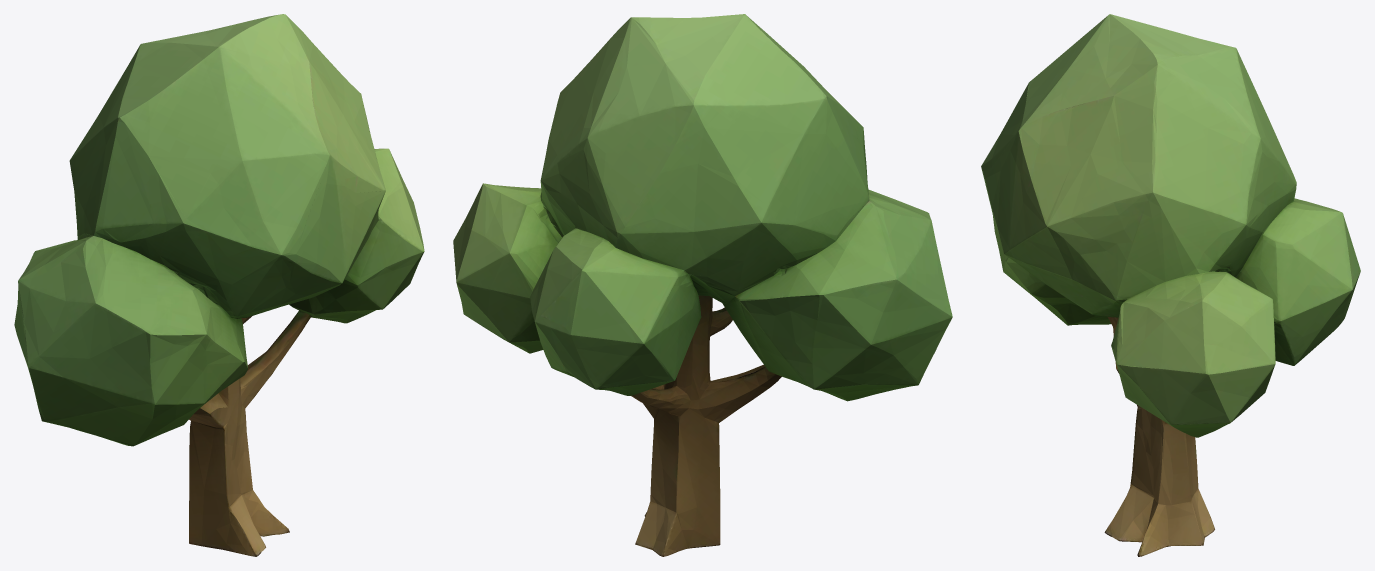
File: oak_tree.glb
3 views of the same model, side by side, from view 1: azimuth 30°, elevation 25°; view 2: azimuth 150°, elevation 25°; view 3: azimuth 270°, elevation 25° (orthographic). The views are drawn at different scales.
Parts seen in each view (by area): view 1: world; view 2: world; view 3: world.
Boxes of the visible parts, <box> form: world: <box>14,14,424,556</box>; world: <box>453,14,952,556</box>; world: <box>981,14,1360,556</box>.
Size of the model in its own units: 0.8997 by 1 by 0.685.
1 material, 1 textured.
